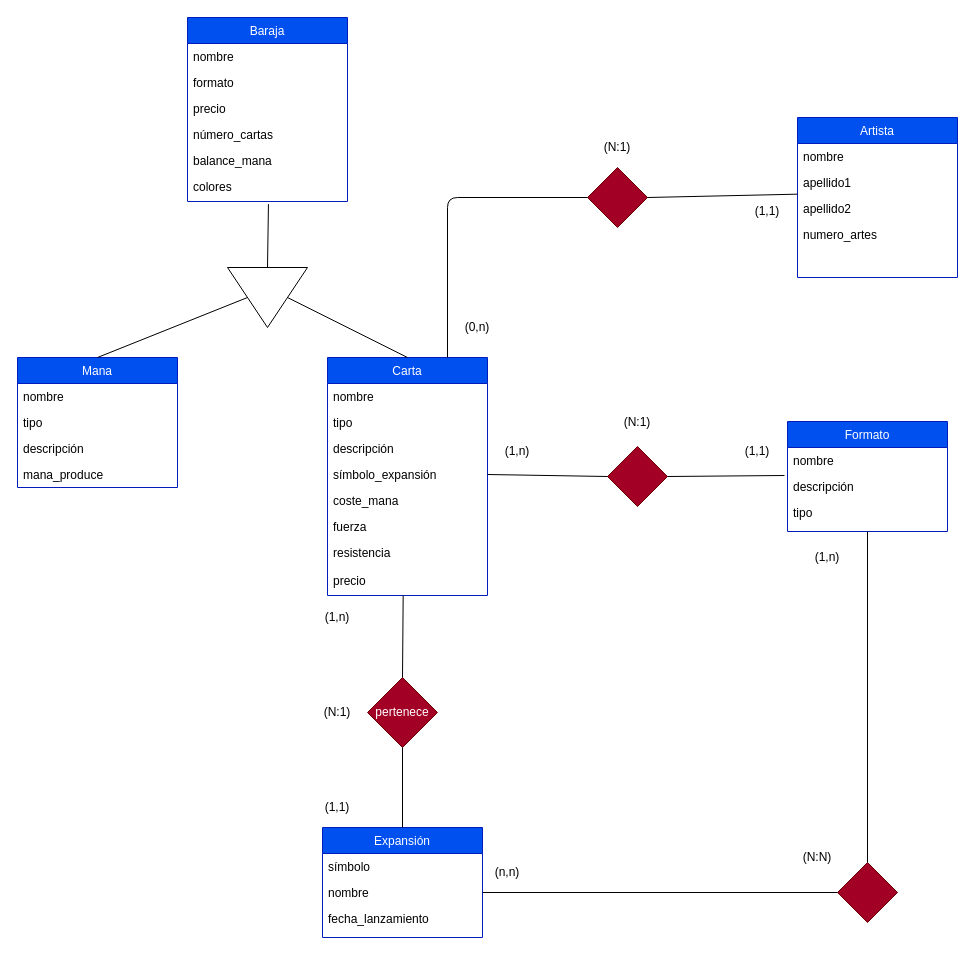
The diagram is 975 pixels wide and 955 high, and some of its shapes have lost their labels. Here are the shapes that lost their labels. From the top down, the centre of each, then its label:
[617,197]: participa
[637,476]: tiene
[867,892]: posee
